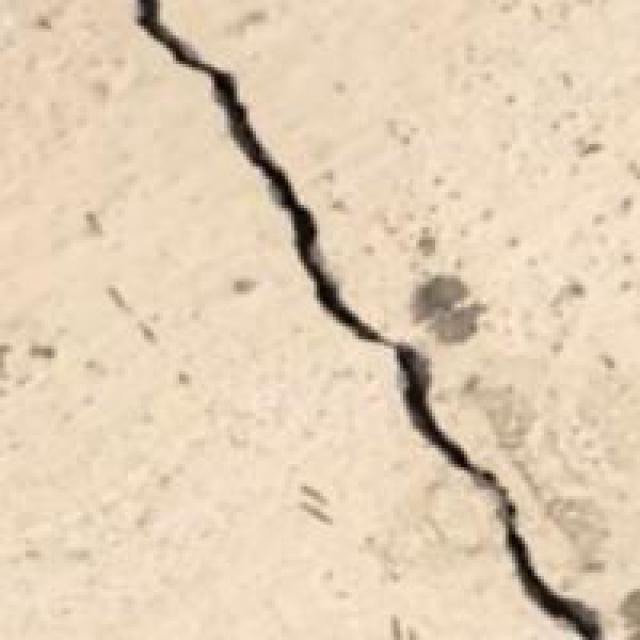crack: (131, 0, 637, 637)
